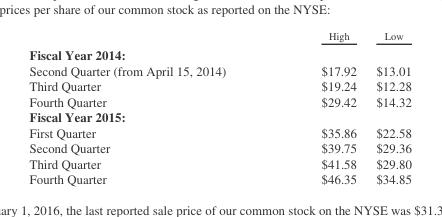table: (28, 29, 410, 186)
table column: (28, 29, 272, 186), (272, 29, 365, 186), (365, 29, 410, 186)
table column header: (28, 29, 410, 44)
table projected row header: (28, 44, 410, 62), (28, 109, 410, 124)
table row: (28, 44, 410, 62), (28, 62, 410, 78), (28, 93, 410, 109), (28, 124, 410, 140), (28, 155, 410, 171), (28, 29, 410, 44), (28, 78, 410, 93), (28, 109, 410, 124), (28, 140, 410, 155), (28, 171, 410, 186)
